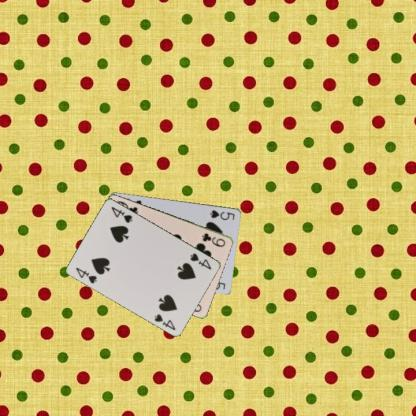4s: (188, 250, 212, 271), (74, 264, 98, 284)
5s: (207, 208, 236, 222)
9c: (199, 230, 226, 248)
